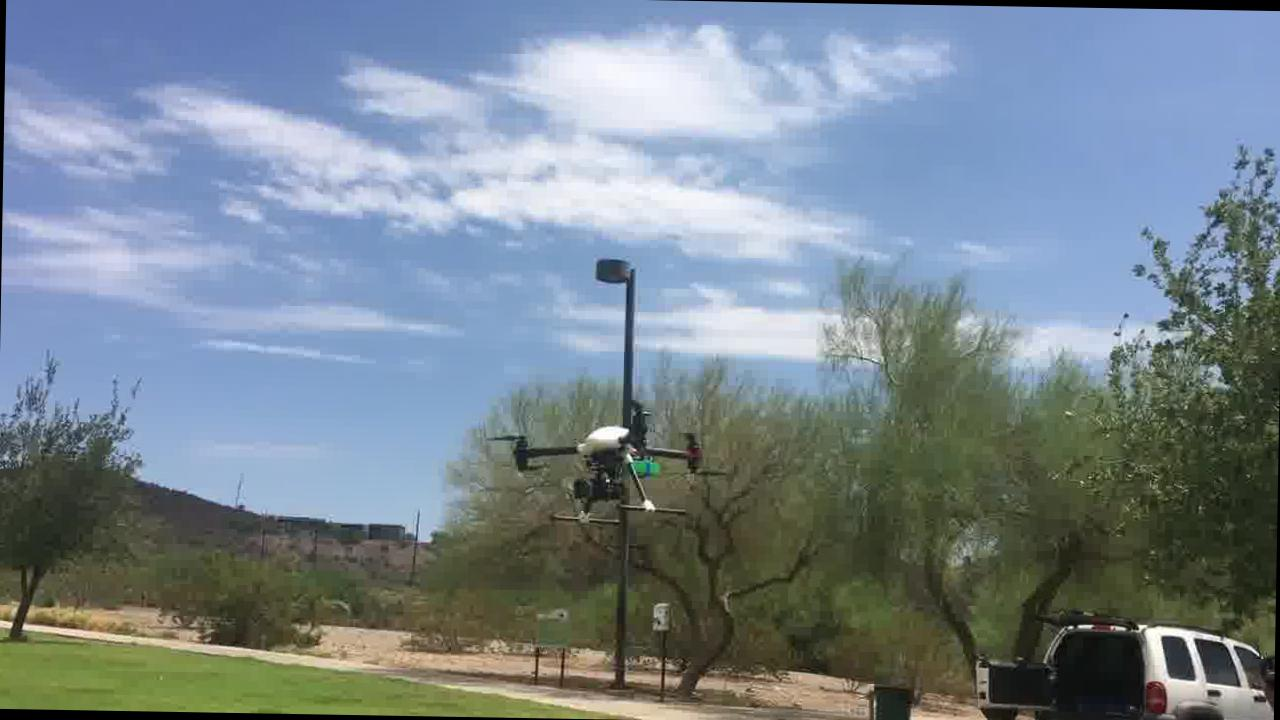drone: (503, 410, 715, 528)
